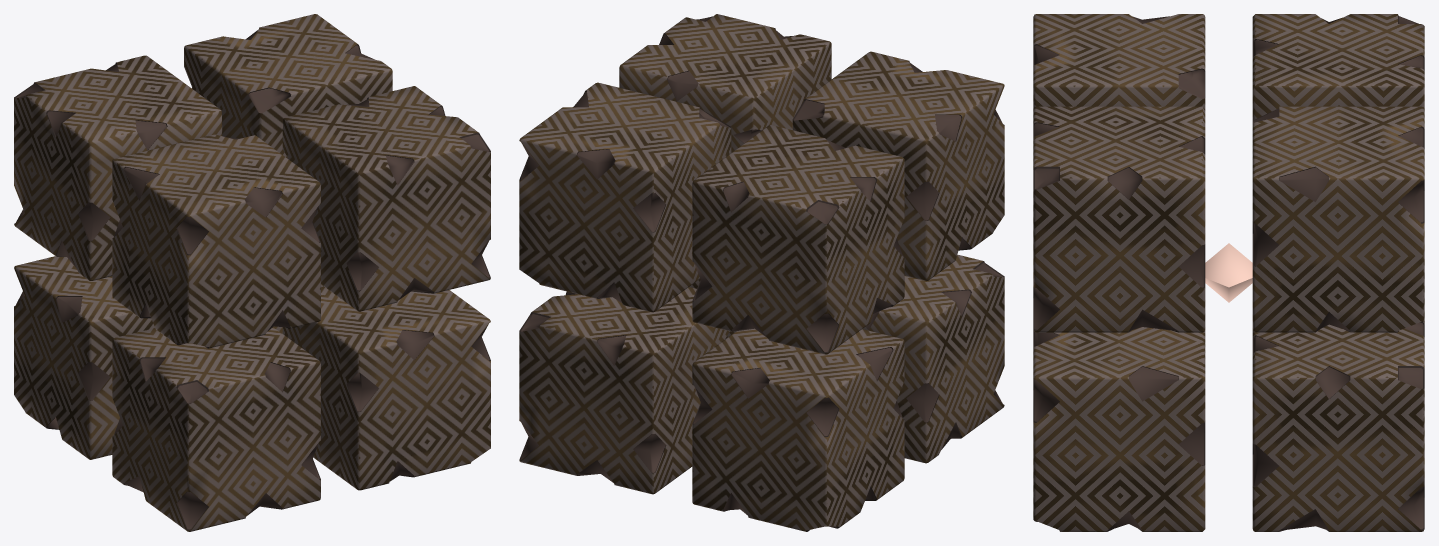
The model's file is Cube_Final_All.fbx.
3 renders of one model, left to right at view 1: azimuth 30°, elevation 25°; view 2: azimuth 150°, elevation 25°; view 3: azimuth 270°, elevation 25°, orthographic. The views are drawn at different scales.
Parts seen in each view (by area): view 1: Cube_Final_All; view 2: Cube_Final_All; view 3: Cube_Final_All.
Boxes of the visible parts, x1,y1,x2,y2 form: Cube_Final_All: (14,14,490,531); Cube_Final_All: (519,14,1004,531); Cube_Final_All: (1033,14,1424,531).
Size of the model in its own units: 682 by 684 by 683.
